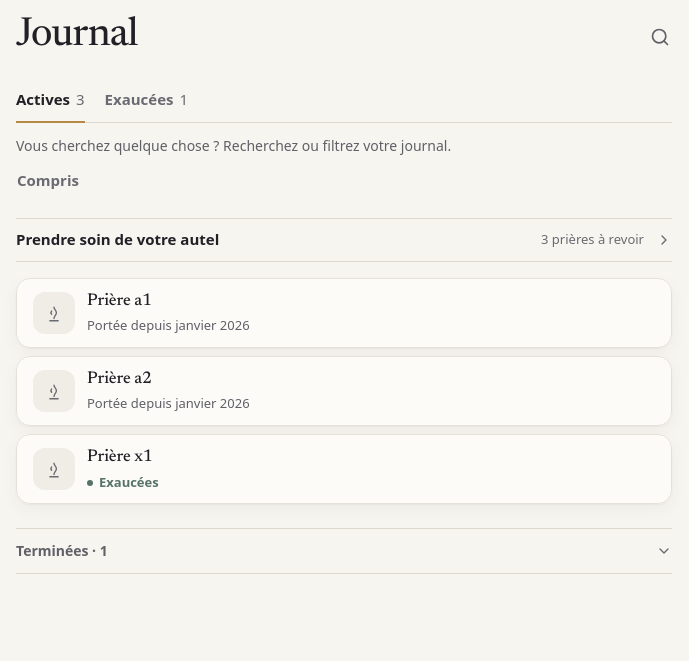
Test: PrayersTab — finished series › fold under "Finished" instead of sitting among active prayers
This screenshot has width=689, height=661.
Expected: the text "Plan terminé" is not shown
Click the button "Terminées · 1": (52,551) 16,529 -> 672,573
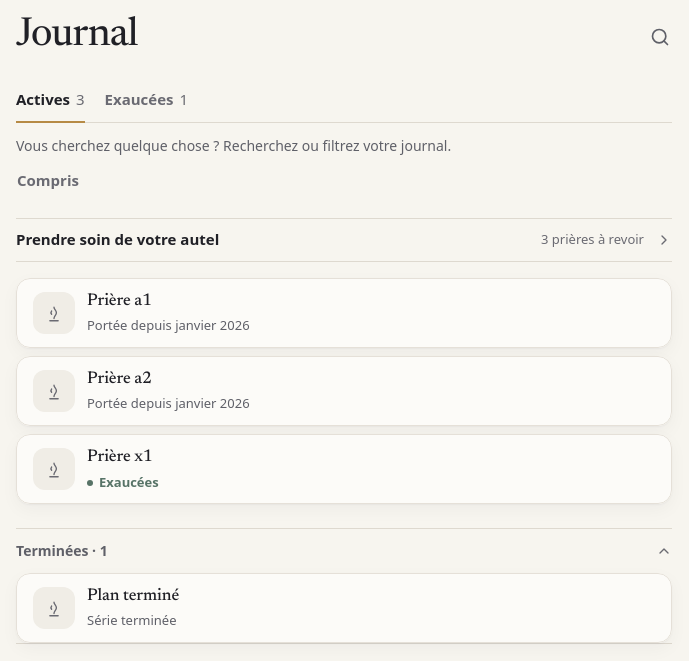
Expected: the text "Prière a1" is shown, 87,293 -> 152,310
Expected: the text "Plan terminé" is shown, 87,588 -> 179,605
